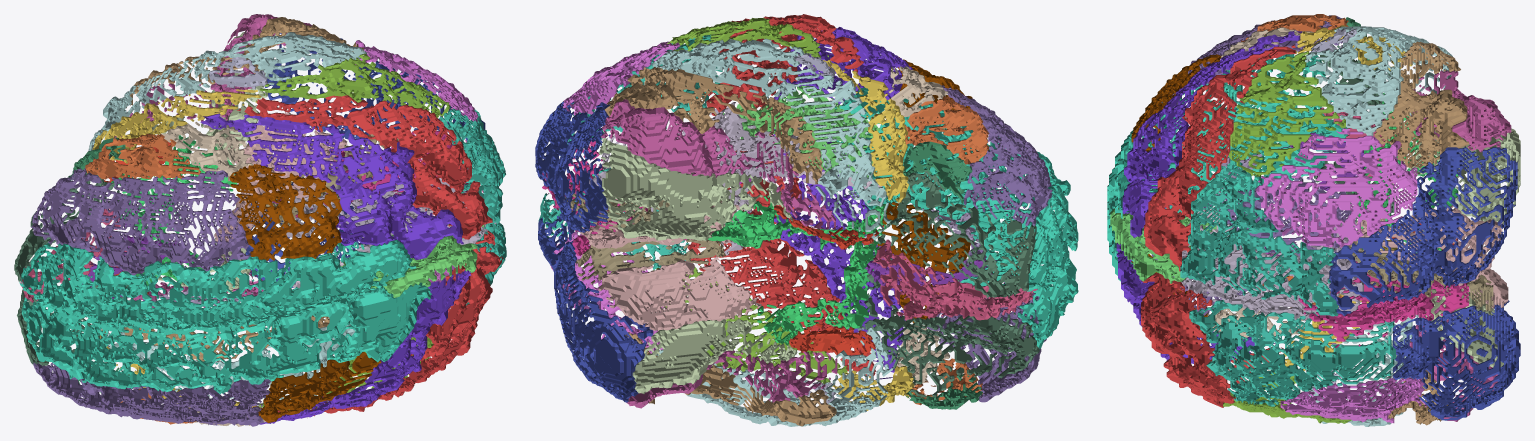
File: aparc.DKTatlas+aseg.glb
The picture shows the model from 3 angles, left to right: view 1: azimuth 30°, elevation 25°; view 2: azimuth 150°, elevation 25°; view 3: azimuth 270°, elevation 25°; orthographic projection. The views are drawn at different scales.
Visible parts, largest first — view 1: 2028_ctx-rh-superiorfrontal, 1028_ctx-lh-superiorfrontal, 1027_ctx-lh-rostralmiddlefrontal, 1024_ctx-lh-precentral, 1022_ctx-lh-postcentral, 2027_ctx-rh-rostralmiddlefrontal, 1003_ctx-lh-caudalmiddlefrontal, 1030_ctx-lh-superiortemporal, 2022_ctx-rh-postcentral, 2024_ctx-rh-precentral, 1031_ctx-lh-supramarginal, 2003_ctx-rh-caudalmiddlefrontal (+26 smaller); view 2: 1030_ctx-lh-superiortemporal, 1007_ctx-lh-fusiform, 1009_ctx-lh-inferiortemporal, 2011_ctx-rh-lateraloccipital, 2013_ctx-rh-lingual, 2012_ctx-rh-lateralorbitofrontal, 1028_ctx-lh-superiorfrontal, 1015_ctx-lh-middletemporal, 2022_ctx-rh-postcentral, 1012_ctx-lh-lateralorbitofrontal, 1011_ctx-lh-lateraloccipital, 1027_ctx-lh-rostralmiddlefrontal (+42 smaller); view 3: 1011_ctx-lh-lateraloccipital, 2029_ctx-rh-superiorparietal, 1008_ctx-lh-inferiorparietal, 1029_ctx-lh-superiorparietal, 2011_ctx-rh-lateraloccipital, 1022_ctx-lh-postcentral, 1030_ctx-lh-superiortemporal, 2022_ctx-rh-postcentral, 1031_ctx-lh-supramarginal, 1015_ctx-lh-middletemporal, 1024_ctx-lh-precentral, 2008_ctx-rh-inferiorparietal (+31 smaller).
Boxes of the visible parts, x1,y1,x2,y2 form: 2028_ctx-rh-superiorfrontal: (21, 274, 431, 394); 1028_ctx-lh-superiorfrontal: (19, 239, 416, 332); 1027_ctx-lh-rostralmiddlefrontal: (31, 168, 251, 275); 1024_ctx-lh-precentral: (200, 113, 463, 259); 1022_ctx-lh-postcentral: (237, 95, 492, 239); 2027_ctx-rh-rostralmiddlefrontal: (33, 362, 270, 426); 1003_ctx-lh-caudalmiddlefrontal: (229, 164, 342, 260); 1030_ctx-lh-superiortemporal: (88, 32, 367, 187); 2022_ctx-rh-postcentral: (253, 230, 503, 416); 2024_ctx-rh-precentral: (259, 270, 471, 424); 1031_ctx-lh-supramarginal: (259, 53, 450, 117); 2003_ctx-rh-caudalmiddlefrontal: (258, 352, 381, 423); 1030_ctx-lh-superiortemporal: (652, 38, 892, 240); 1007_ctx-lh-fusiform: (598, 138, 792, 241); 1009_ctx-lh-inferiortemporal: (600, 99, 835, 229); 2011_ctx-rh-lateraloccipital: (538, 213, 653, 402); 2013_ctx-rh-lingual: (598, 255, 761, 330); 2012_ctx-rh-lateralorbitofrontal: (864, 274, 1039, 397); 1028_ctx-lh-superiorfrontal: (835, 87, 1078, 291); 1015_ctx-lh-middletemporal: (604, 67, 822, 184); 2022_ctx-rh-postcentral: (682, 128, 875, 376); 1012_ctx-lh-lateralorbitofrontal: (877, 170, 1036, 297); 1011_ctx-lh-lateraloccipital: (535, 101, 610, 232); 1027_ctx-lh-rostralmiddlefrontal: (941, 85, 1052, 225); 1011_ctx-lh-lateraloccipital: (1329, 147, 1517, 316); 2029_ctx-rh-superiorparietal: (1189, 300, 1395, 406); 1008_ctx-lh-inferiorparietal: (1256, 128, 1417, 247); 1029_ctx-lh-superiorparietal: (1180, 163, 1338, 316); 2011_ctx-rh-lateraloccipital: (1393, 300, 1520, 420); 1022_ctx-lh-postcentral: (1144, 44, 1295, 271); 1030_ctx-lh-superiortemporal: (1305, 26, 1452, 135); 2022_ctx-rh-postcentral: (1141, 273, 1283, 407); 1031_ctx-lh-supramarginal: (1229, 51, 1345, 176); 1015_ctx-lh-middletemporal: (1374, 41, 1468, 168); 1024_ctx-lh-precentral: (1122, 30, 1301, 237); 2008_ctx-rh-inferiorparietal: (1280, 377, 1426, 423).
Size of the model in its own units: 184 by 130 by 136.
